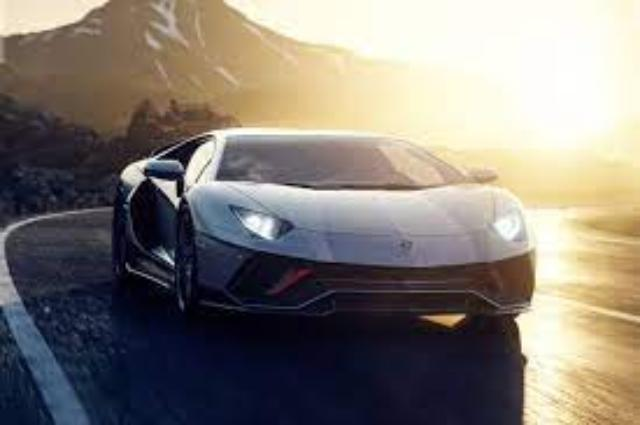lamborghini: (111, 129, 536, 323)
